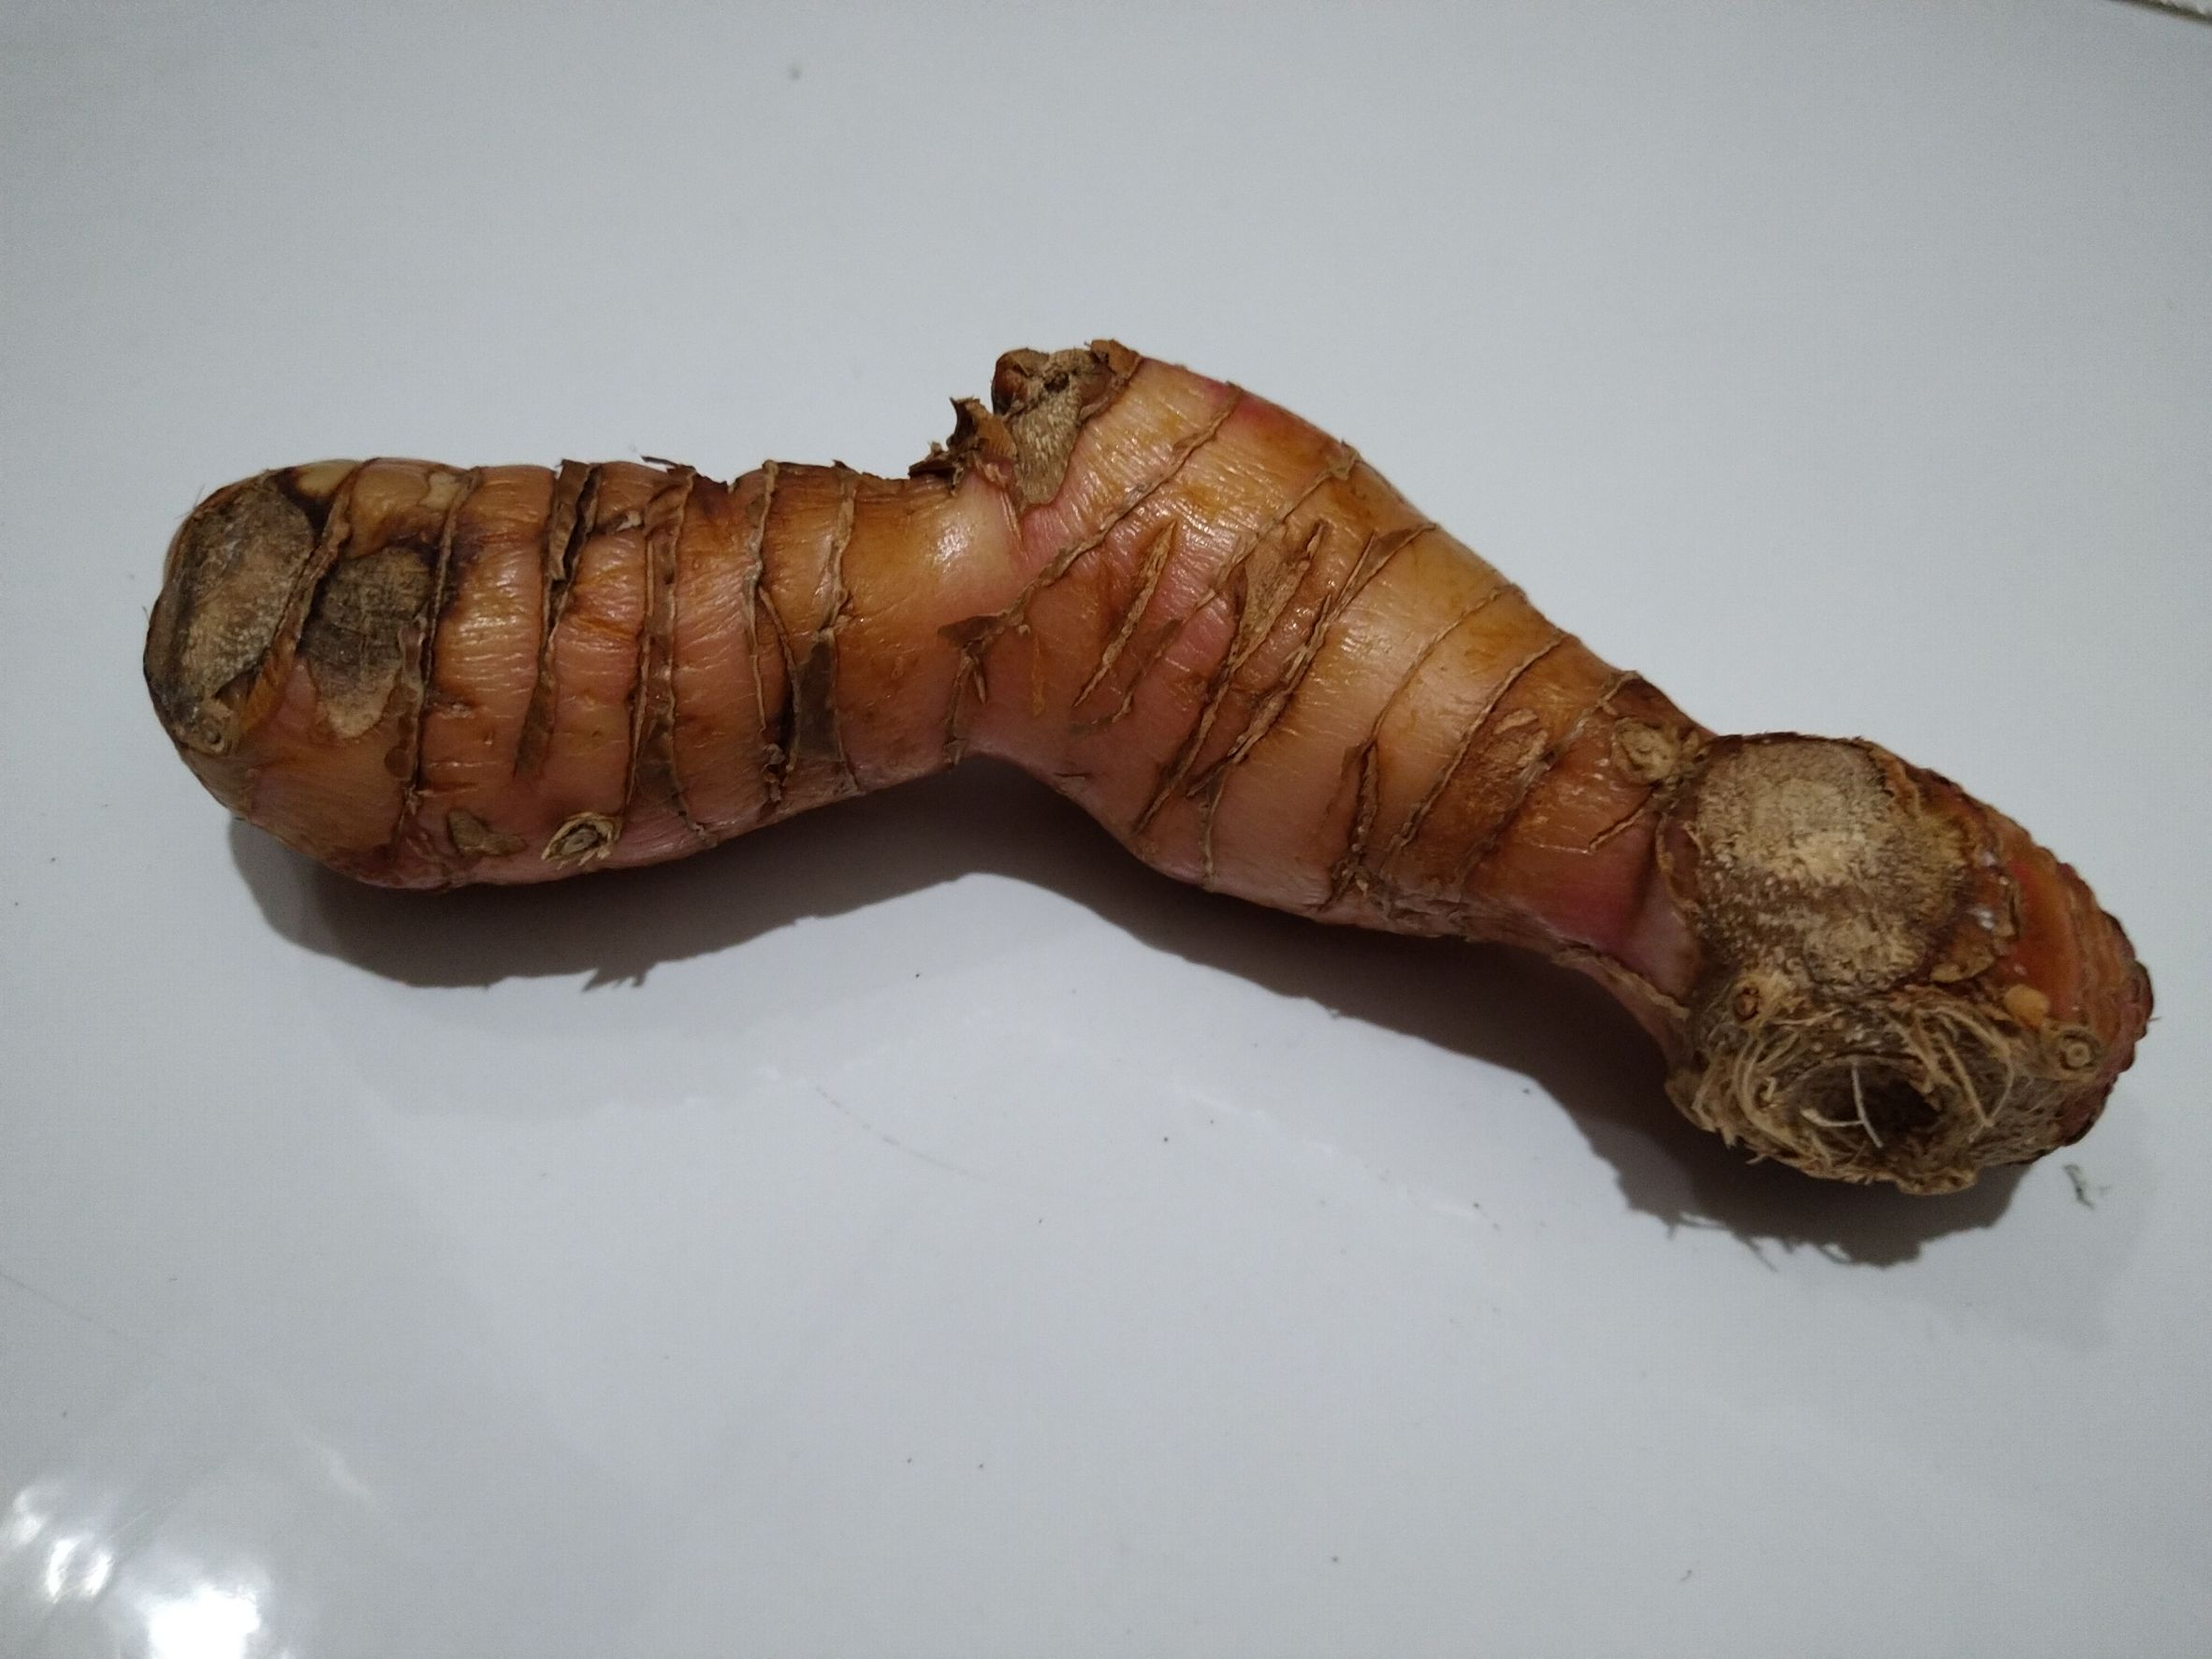Lengkuas: (153, 340, 2165, 1246)
